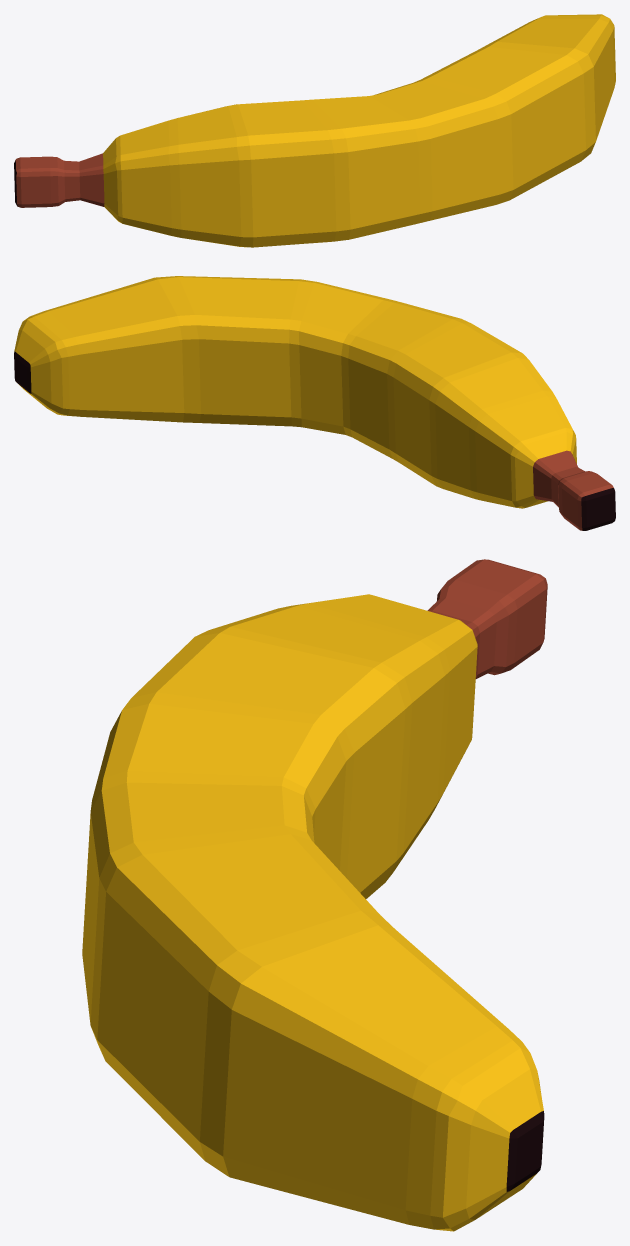
File: BananaA.fbx
The picture shows the model from 3 angles, top to bottom: view 1: azimuth 30°, elevation 25°; view 2: azimuth 150°, elevation 25°; view 3: azimuth 270°, elevation 25°; orthographic projection. The views are drawn at different scales.
Parts seen in each view (by area): view 1: Banana; view 2: Banana; view 3: Banana.
Boxes of the visible parts, box(x1,y1,x2,y2) form: Banana: box(14, 14, 615, 247); Banana: box(14, 276, 615, 530); Banana: box(82, 559, 547, 1231).
Size of the model in its own units: 81.6 by 15.16 by 27.87.
